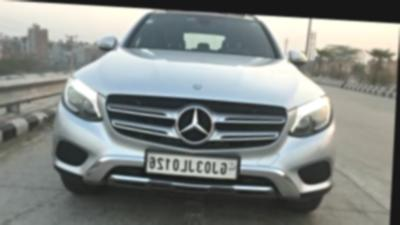License_Plate: (145, 153, 242, 181)
